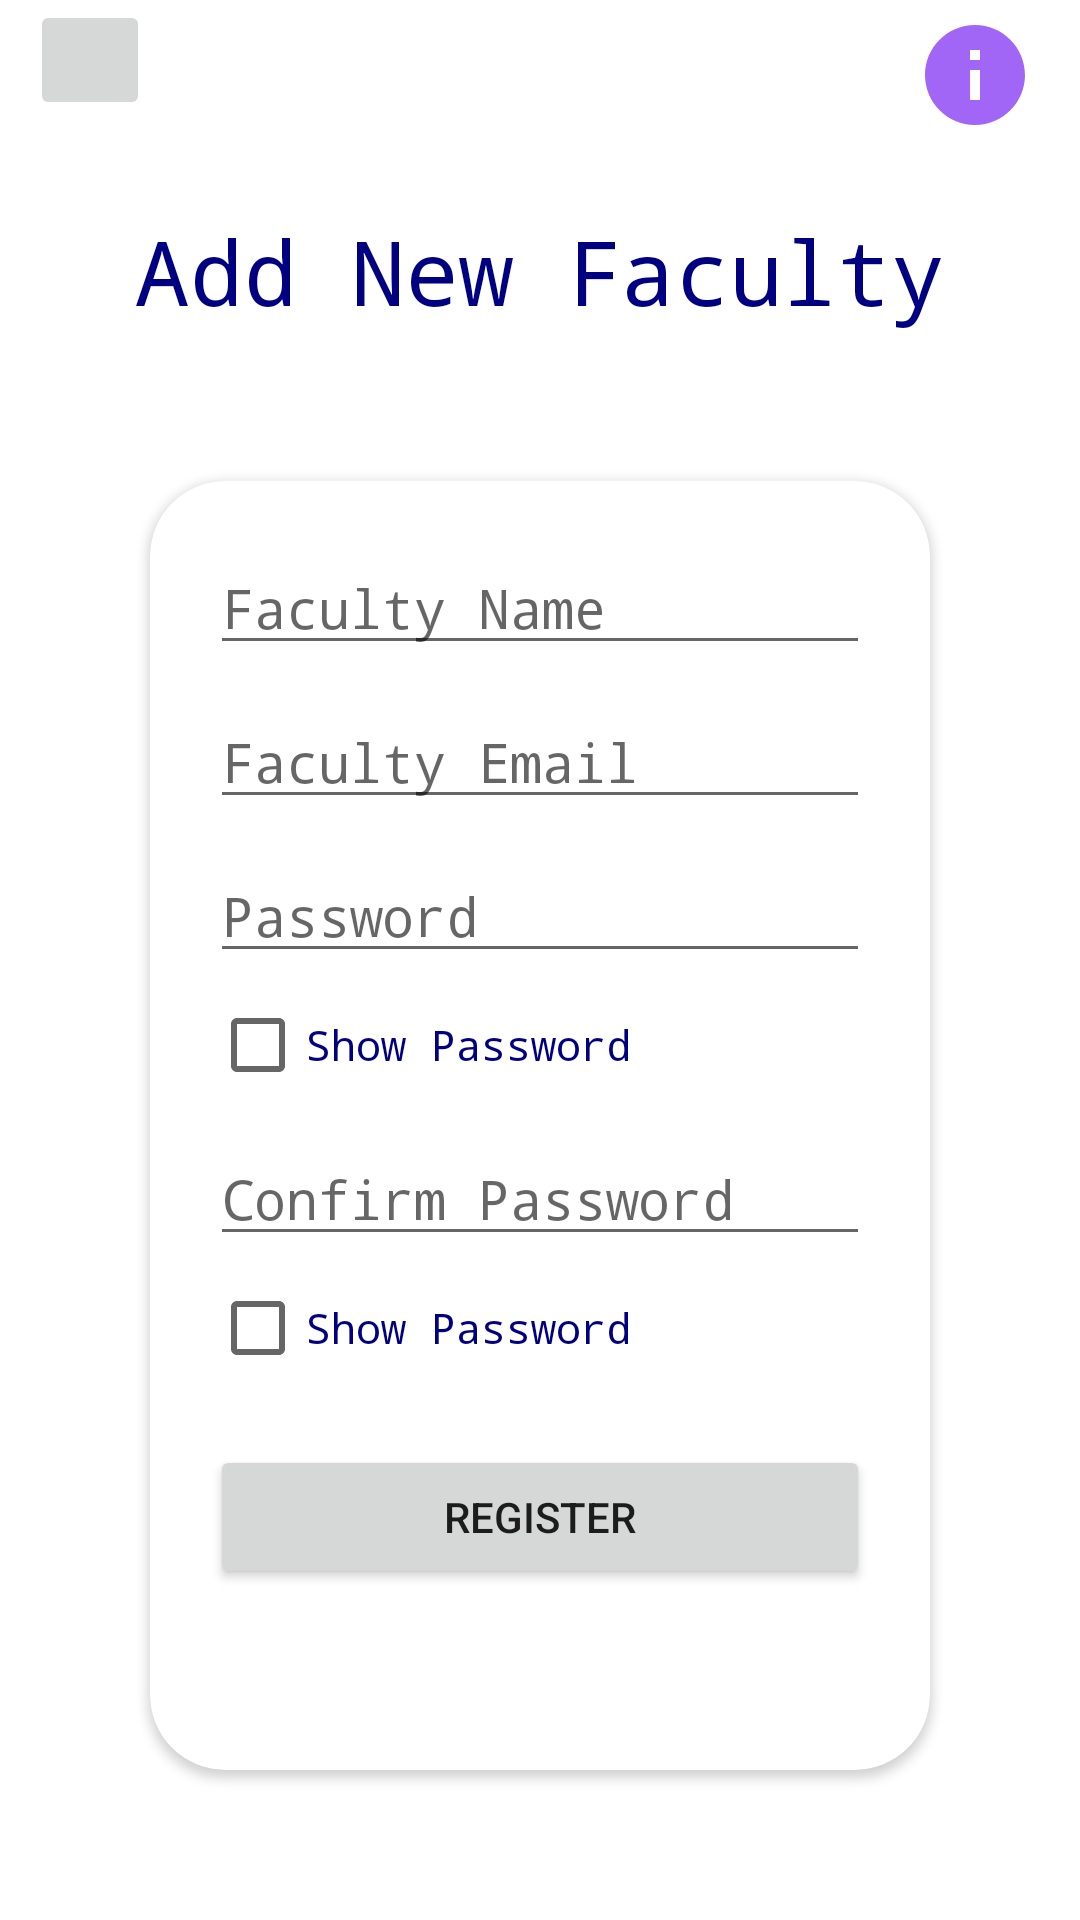

Screen size 1080*1920. Icon name, then its box in pixels as bbox(x1, y1, x2, y2):
info: bbox(925, 25, 1025, 125)
